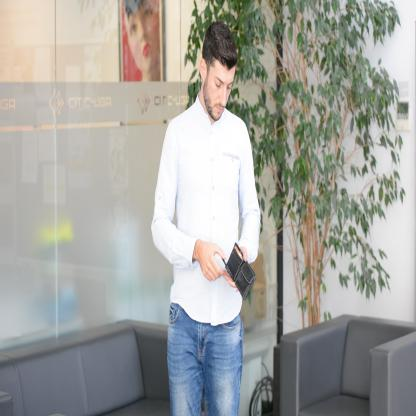monedero: (221, 241, 256, 300)
